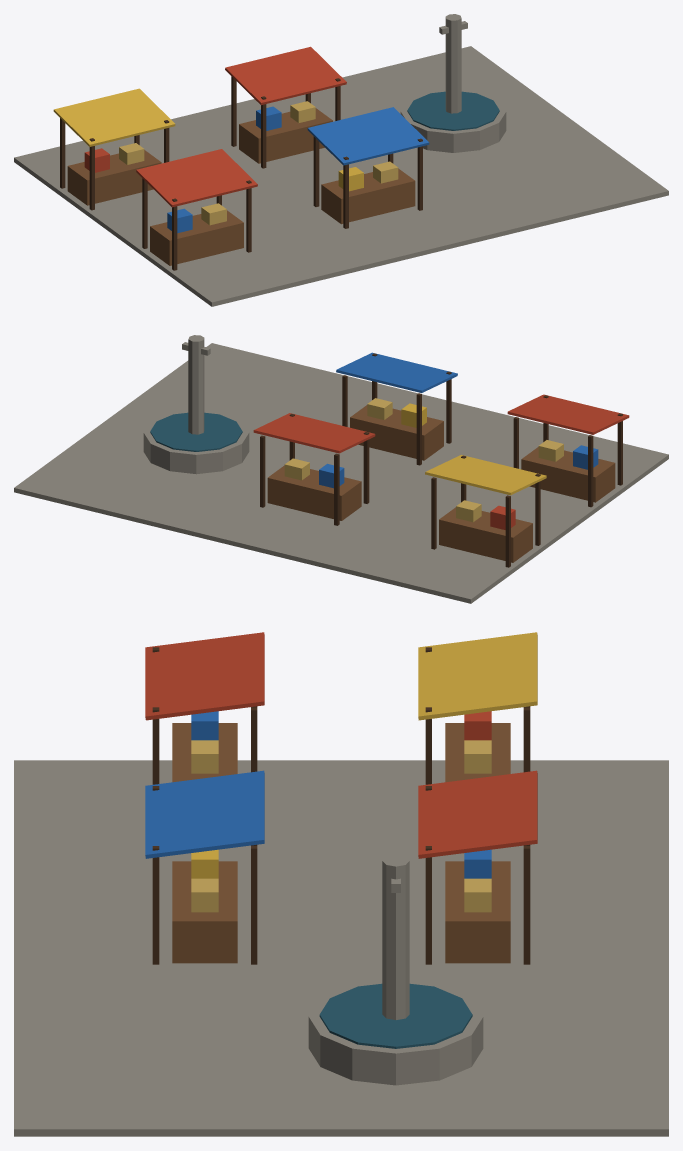
Rendered from market.glb.
3 views of the same model, one above another, from view 1: azimuth 30°, elevation 25°; view 2: azimuth 150°, elevation 25°; view 3: azimuth 270°, elevation 25° (orthographic). The views are drawn at different scales.
Parts seen in each view (by area): view 1: Market; view 2: Market; view 3: Market.
Part boxes in pixels (x1=…): Market: x1=14, y1=14, x2=668, y2=306; Market: x1=14, y1=335, x2=668, y2=603; Market: x1=14, y1=632, x2=668, y2=1136.
Size of the model in its own units: 16 by 3.95 by 12.
